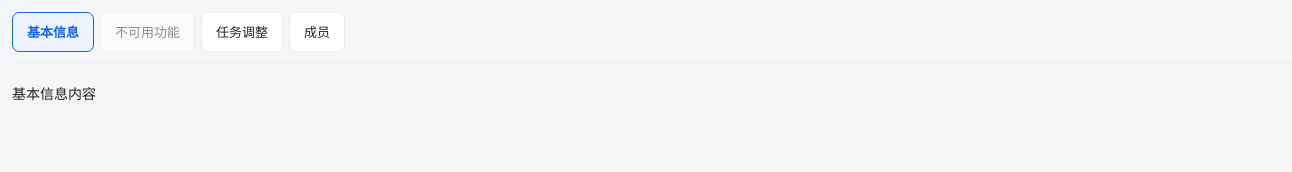
Test: 子菜单直接呈现，点击仍切换受控内容且正确关联面板
The image size is (1292, 172).
Click the tab "成员".
click(317, 32)  # box [289,12,345,52]
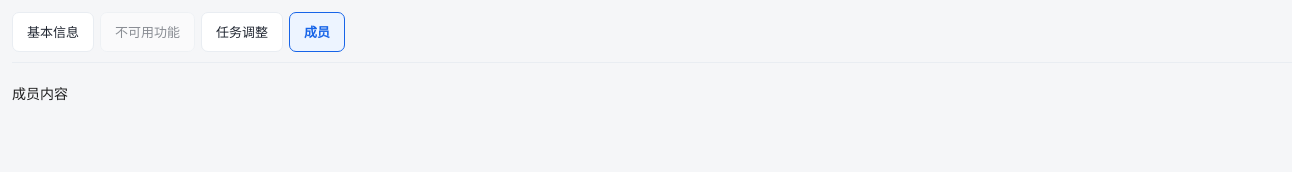
Expected: the text "成员内容" is shown, [12,85,68,102]
